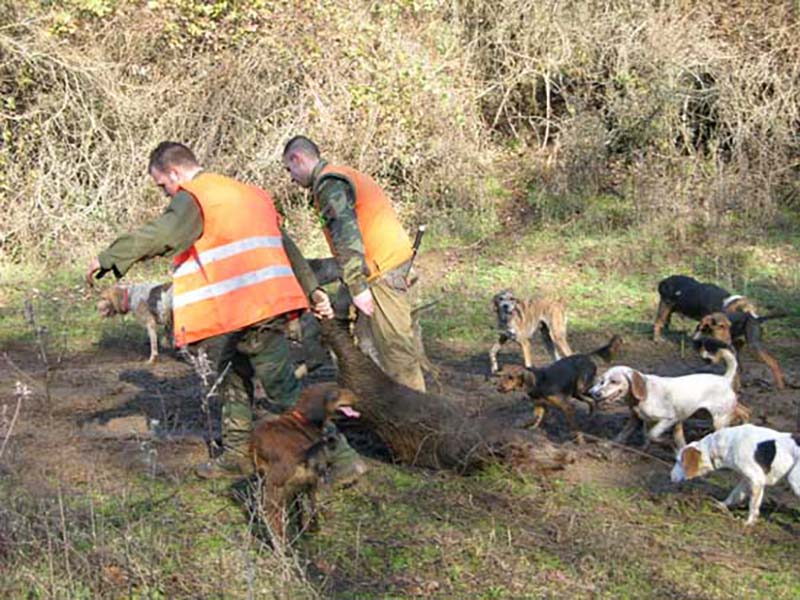cacciatore: (138, 134, 315, 448), (272, 122, 461, 402)
cane da caccia: (645, 263, 787, 382), (592, 345, 743, 449), (491, 331, 626, 425), (664, 419, 791, 518), (482, 286, 586, 362)
cinghiale: (381, 378, 586, 489)
